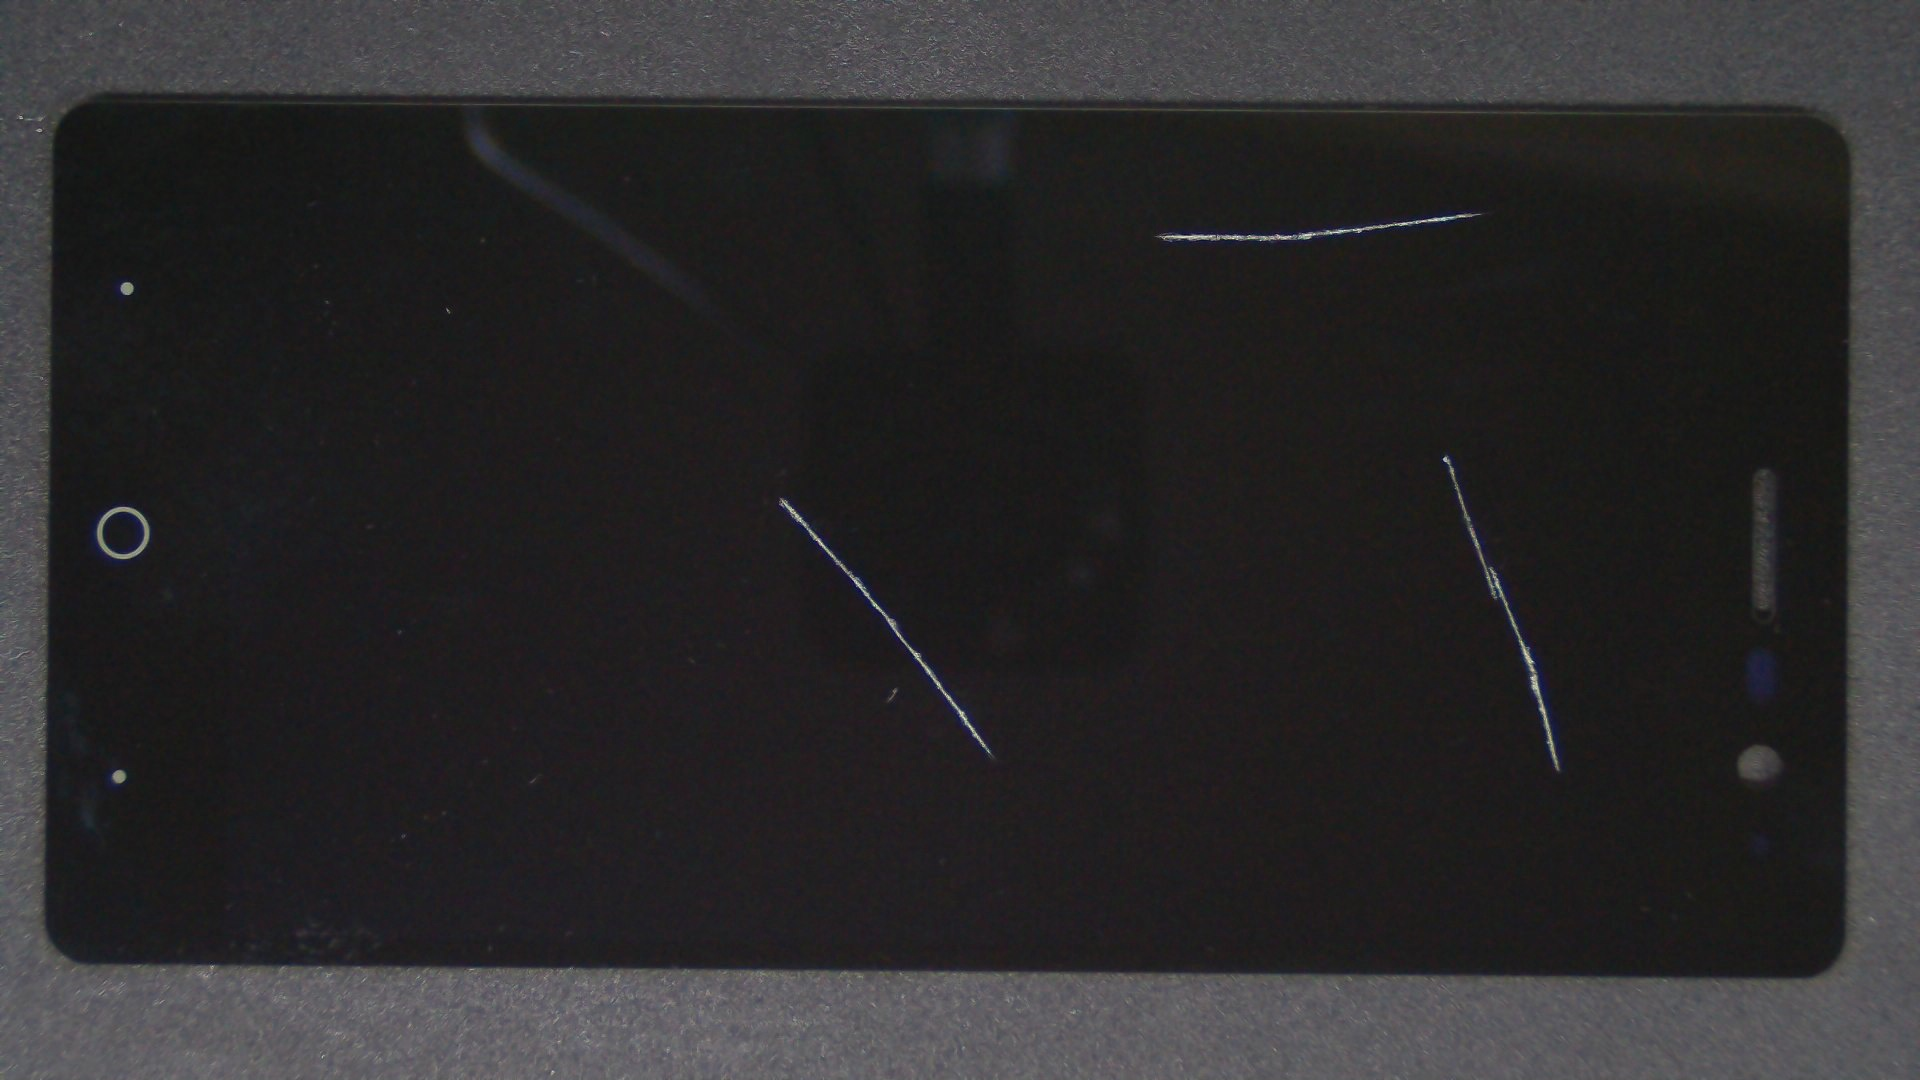oil: (724, 225, 1920, 682), (392, 248, 1174, 745), (733, 105, 1920, 319)
